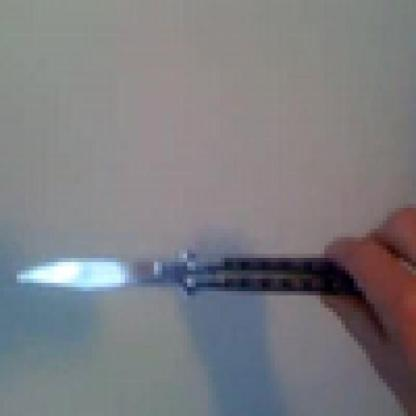Knife: (0, 216, 374, 357)
